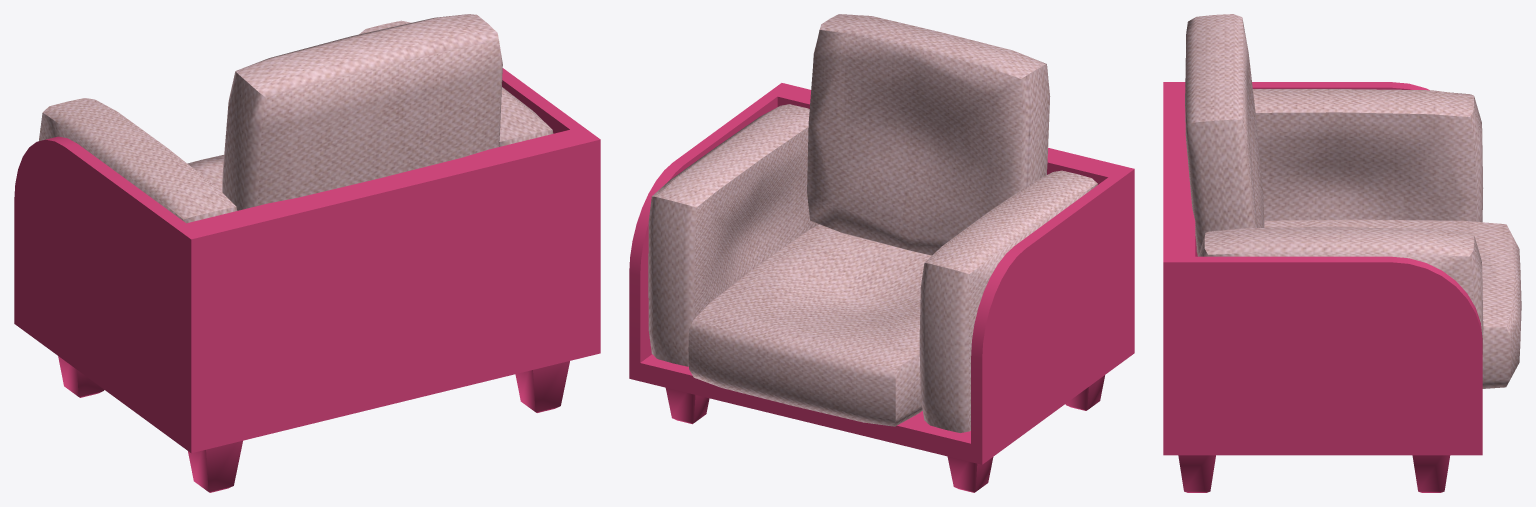
File: furniture_seating_210060.glb
3 views of the same model, side by side, from view 1: azimuth 30°, elevation 25°; view 2: azimuth 150°, elevation 25°; view 3: azimuth 270°, elevation 25° (orthographic). The views are drawn at different scales.
Parts seen in each view (by area): view 1: furniture_seating_210060; view 2: furniture_seating_210060; view 3: furniture_seating_210060.
Boxes of the visible parts, left/top/right/bottom form: furniture_seating_210060: left=14, top=14, right=600, bottom=492; furniture_seating_210060: left=629, top=14, right=1134, bottom=492; furniture_seating_210060: left=1163, top=14, right=1521, bottom=492.
Size of the model in its own units: 0.9557 by 0.8823 by 0.8029.
1 material, 1 textured.
